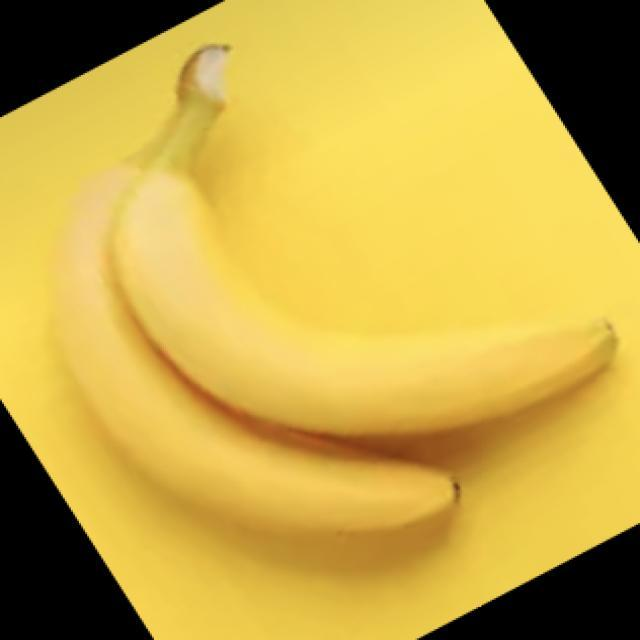Banana: (48, 52, 618, 535)
